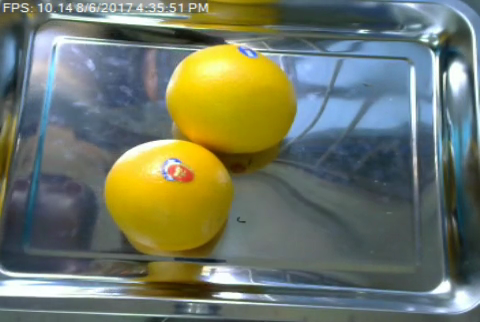Orange: (164, 45, 296, 152), (103, 139, 232, 248)
